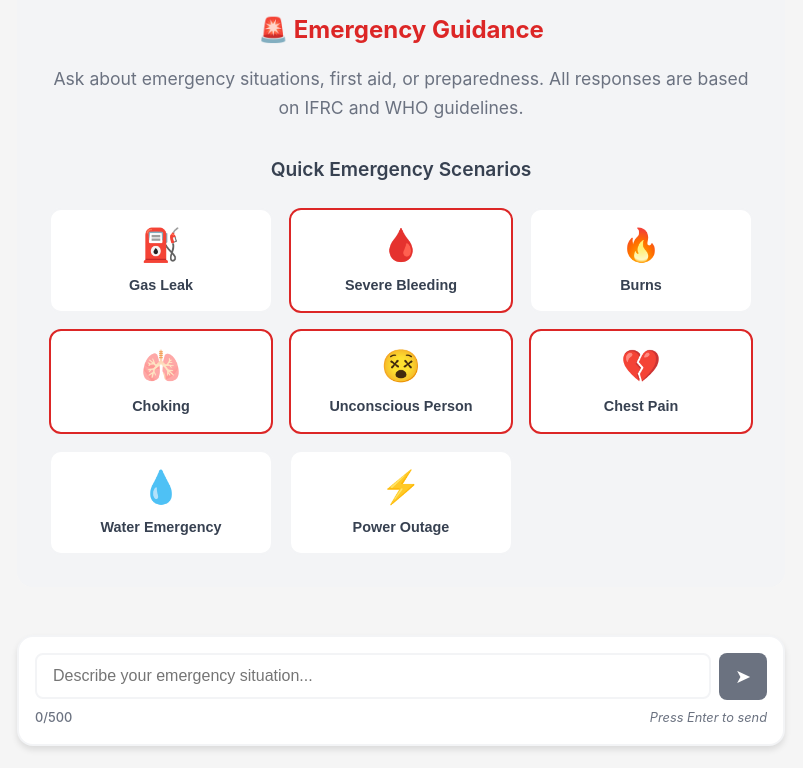
Scenario: ChatInterface Component › enables send button when input has text
The width and height of the screenshot is (803, 768).
In the field with placeholder "Describe your emergency situation...": (373, 676) [35,653,711,699], type "test query"
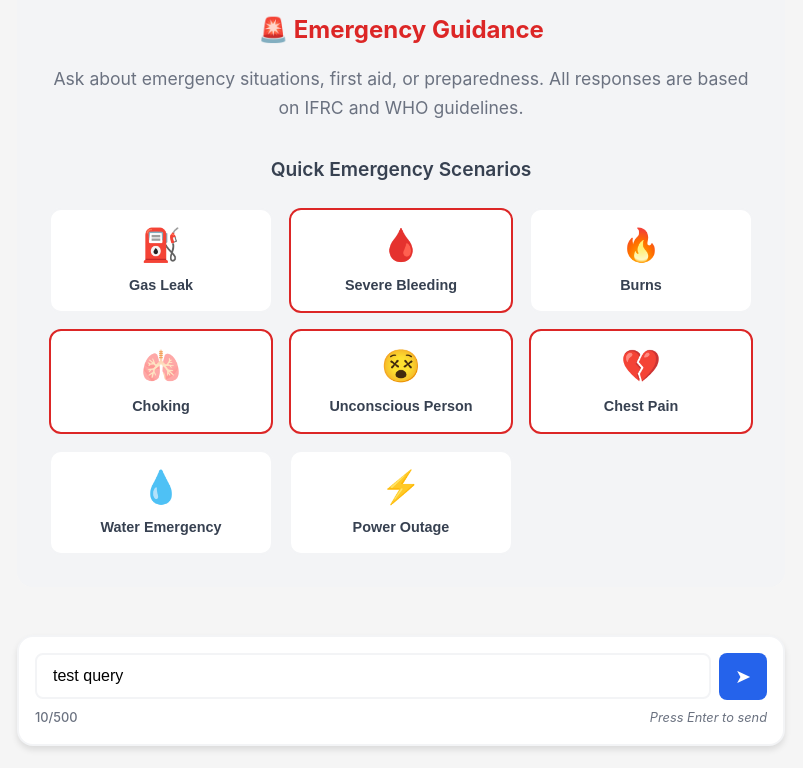
Expected: the button "➤" is enabled, [719,652,767,700]
